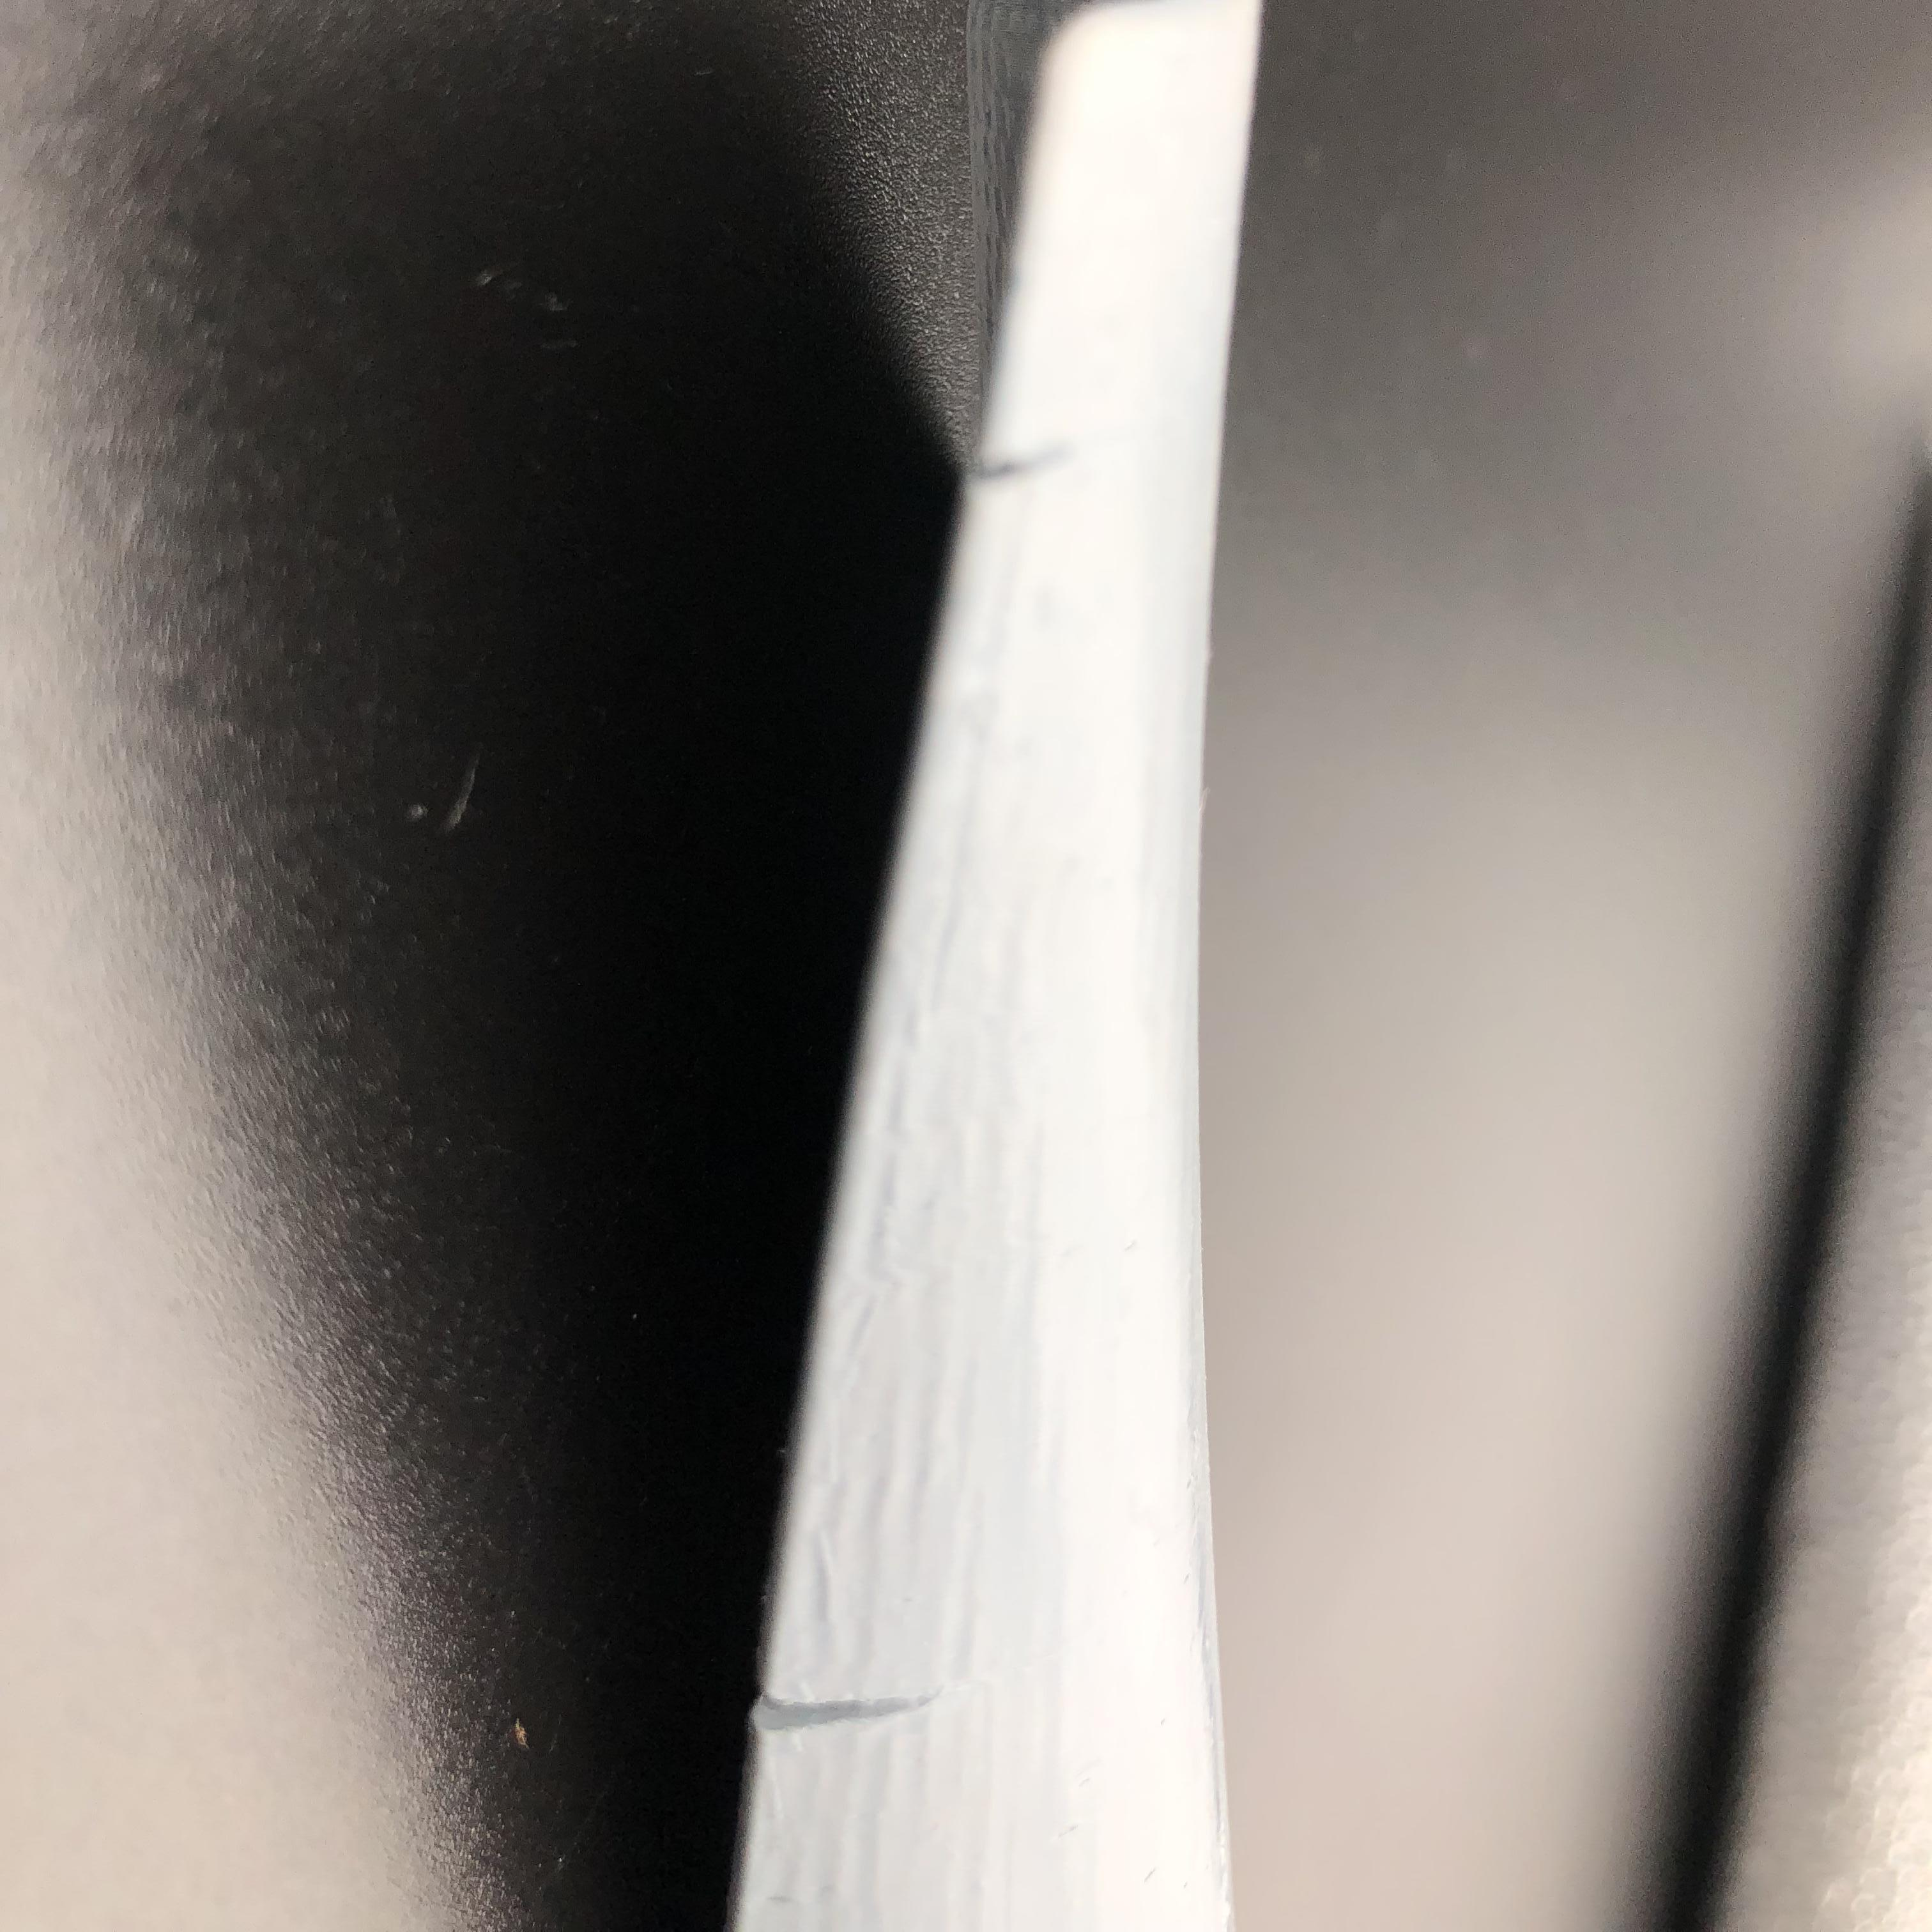groove: (752, 1658, 955, 1750), (957, 439, 1097, 499)
